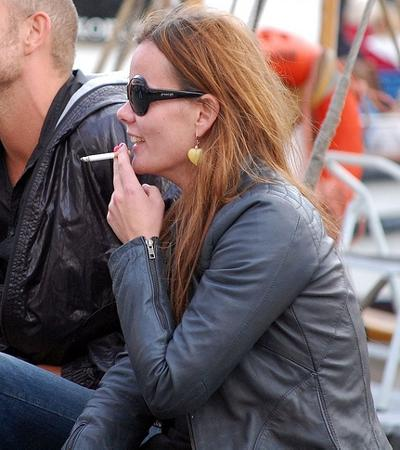person: (64, 9, 395, 450)
